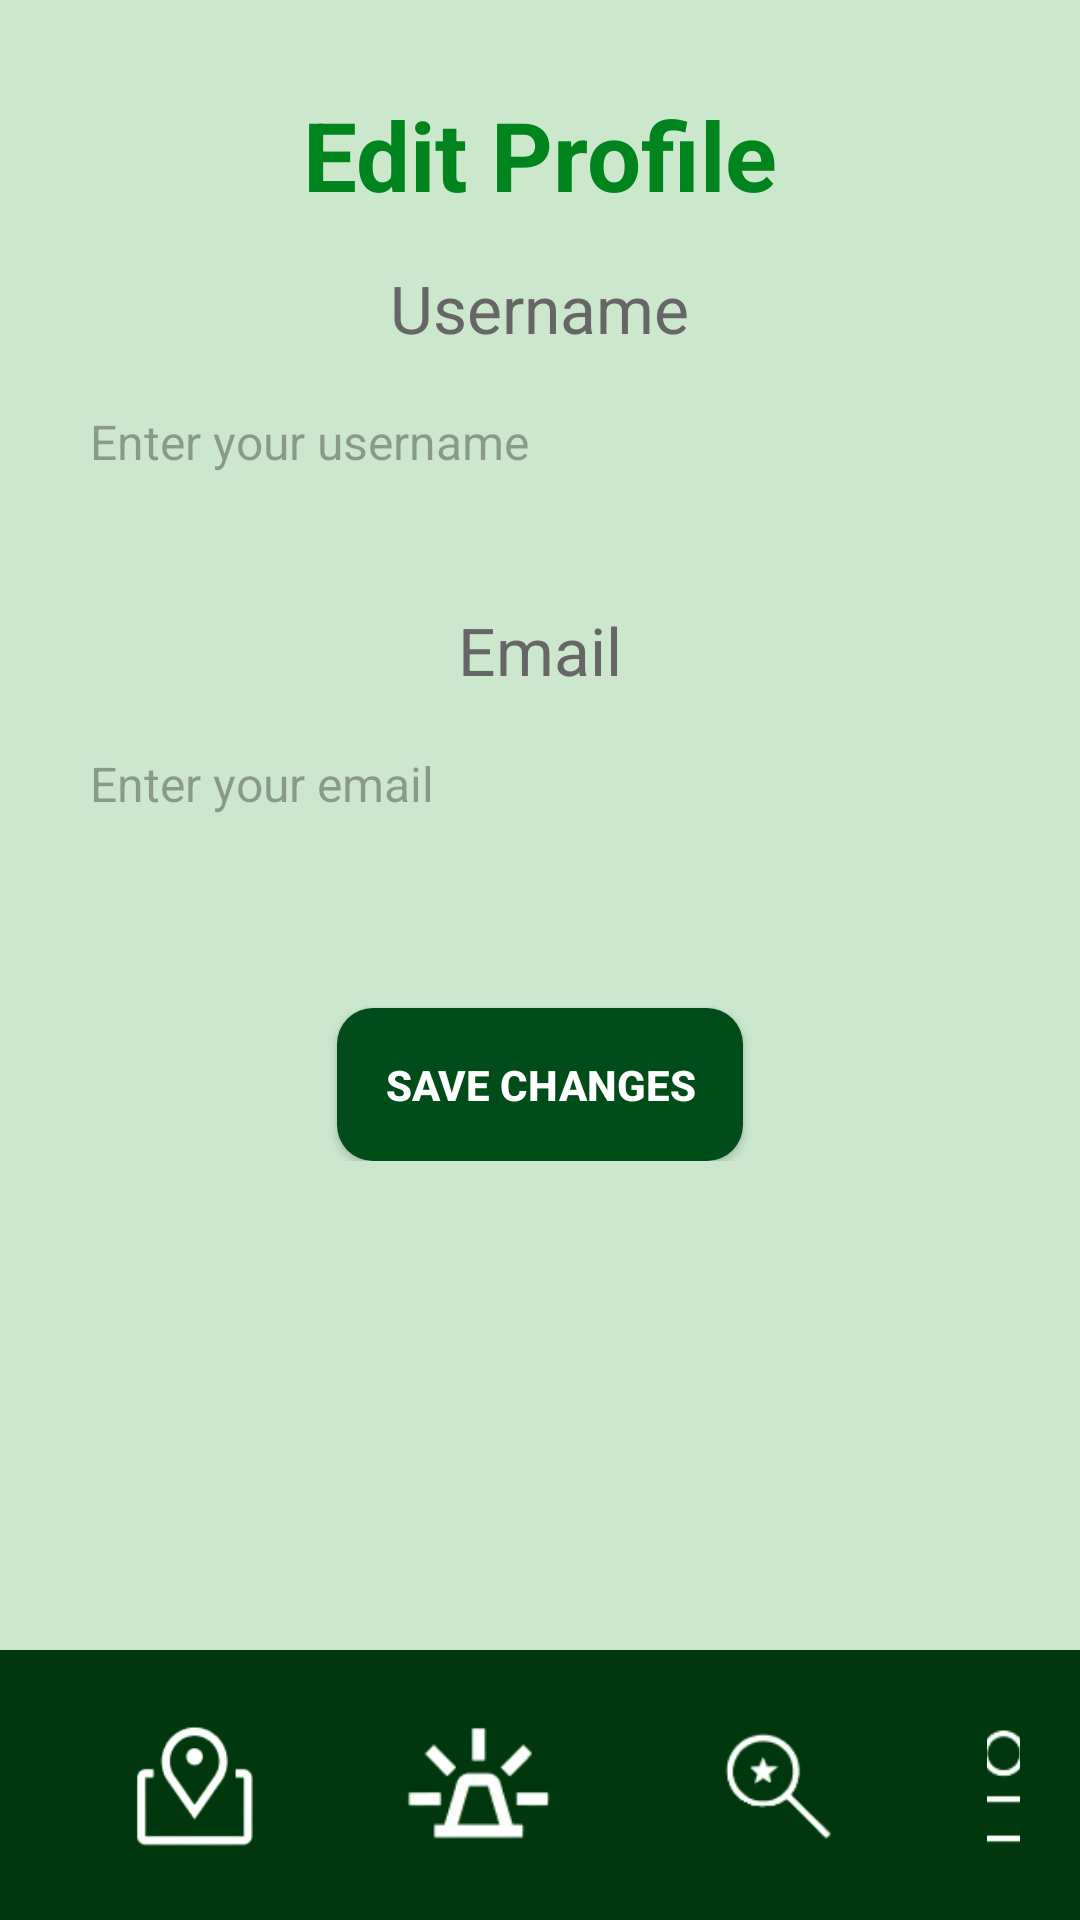

Where to tap for icons on this 1080*1920 app screen, as (x=x, y=y):
Campus Map: (x=195, y=1786)
Emergency: (x=479, y=1783)
Saved: (x=778, y=1786)
